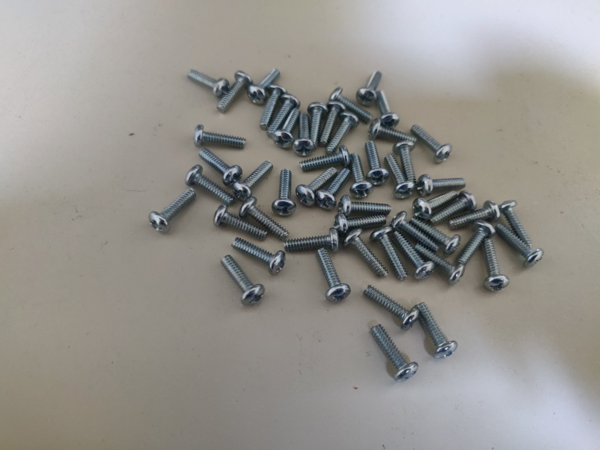shortscrew: (371, 324, 419, 383), (363, 285, 420, 330), (417, 302, 459, 359), (221, 255, 265, 307), (343, 229, 389, 278), (496, 224, 545, 269), (239, 198, 290, 241), (370, 226, 409, 282), (413, 243, 465, 285), (149, 189, 197, 234), (231, 237, 286, 276), (393, 232, 436, 281), (390, 212, 441, 252), (213, 204, 269, 240), (186, 165, 235, 206), (409, 217, 460, 256), (455, 221, 496, 267), (317, 248, 351, 303), (198, 148, 243, 188), (498, 200, 534, 249), (296, 167, 338, 208), (428, 191, 478, 225), (410, 124, 452, 164), (327, 88, 374, 123), (217, 70, 255, 113), (234, 160, 273, 201), (448, 200, 501, 230), (267, 94, 300, 139), (481, 239, 509, 292), (384, 154, 416, 200), (369, 118, 418, 148), (326, 111, 359, 155), (299, 146, 351, 173), (317, 169, 351, 210), (413, 190, 459, 220), (284, 228, 340, 252), (195, 124, 247, 149), (260, 85, 288, 131), (335, 213, 387, 237), (338, 195, 392, 218), (186, 70, 230, 98), (247, 69, 280, 106), (393, 140, 417, 190), (364, 141, 390, 187), (273, 109, 302, 150), (272, 170, 297, 217), (349, 153, 374, 199), (373, 91, 400, 130), (416, 175, 466, 196), (356, 71, 383, 107), (293, 114, 315, 157), (311, 102, 327, 148)
